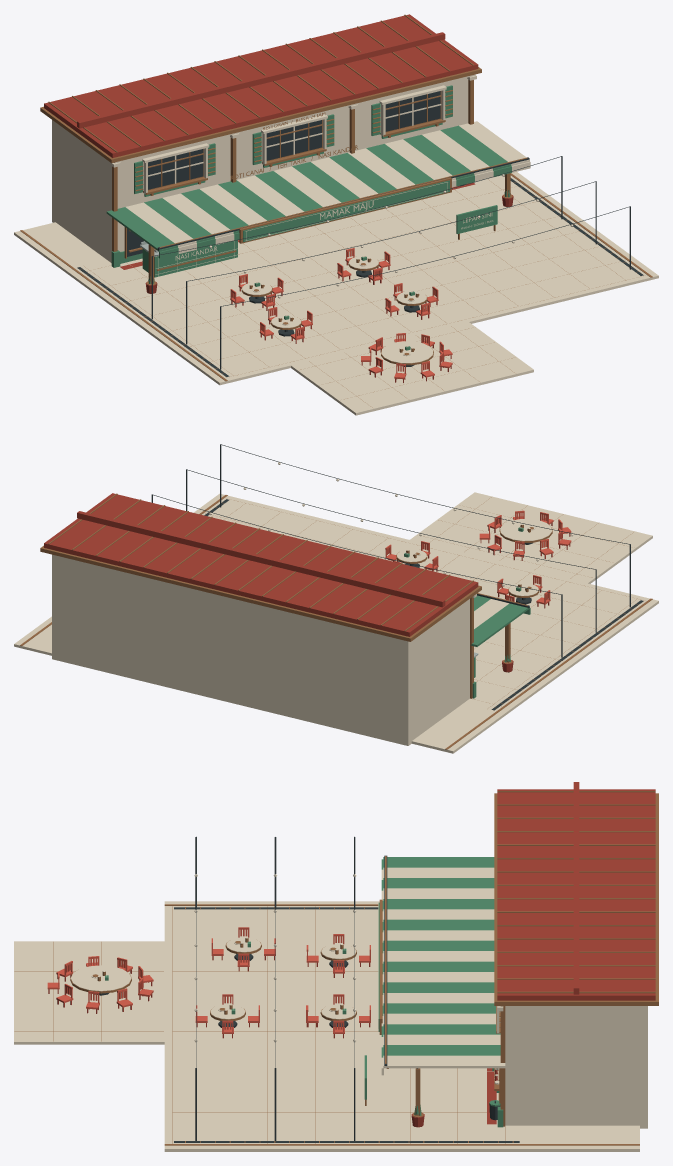
Rendered from LM_ENV_MamakMaju.glb.
The picture shows the model from 3 angles, top to bottom: view 1: azimuth 30°, elevation 25°; view 2: azimuth 150°, elevation 25°; view 3: azimuth 270°, elevation 25°; orthographic projection. The views are drawn at different scales.
Visible parts, largest first — view 1: LM_ENV_MamakMaju, LM_ENV_MamakMaju_Festoon; view 2: LM_ENV_MamakMaju, LM_ENV_MamakMaju_Festoon; view 3: LM_ENV_MamakMaju, LM_ENV_MamakMaju_Festoon.
Part boxes in pixels (bbox=[...]): LM_ENV_MamakMaju: bbox=[14, 14, 658, 415]; LM_ENV_MamakMaju_Festoon: bbox=[151, 156, 630, 369]; LM_ENV_MamakMaju: bbox=[14, 492, 658, 753]; LM_ENV_MamakMaju_Festoon: bbox=[151, 444, 630, 657]; LM_ENV_MamakMaju: bbox=[14, 782, 658, 1151]; LM_ENV_MamakMaju_Festoon: bbox=[194, 836, 356, 1140].
Size of the model in its own units: 37 by 9.95 by 40.7.
